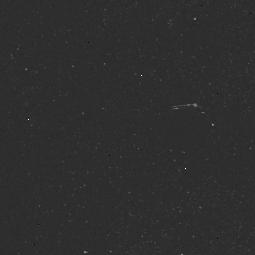earth_observation_sat_1: (154, 93, 230, 150)
